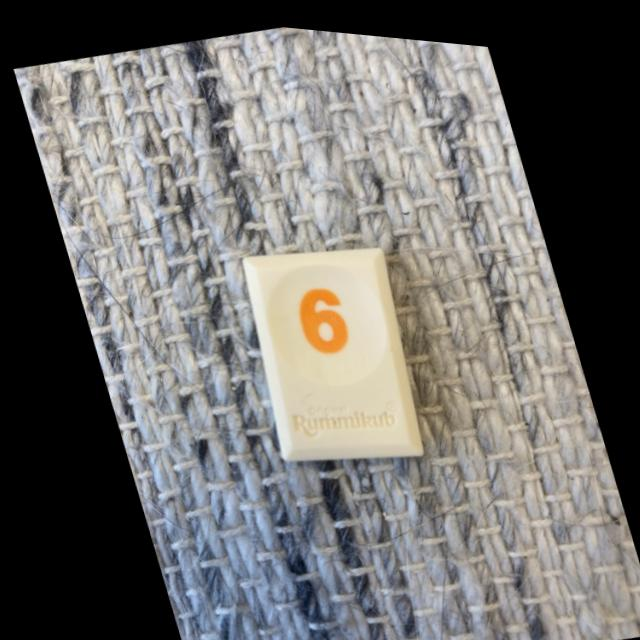orange_6: (240, 240, 419, 454)
